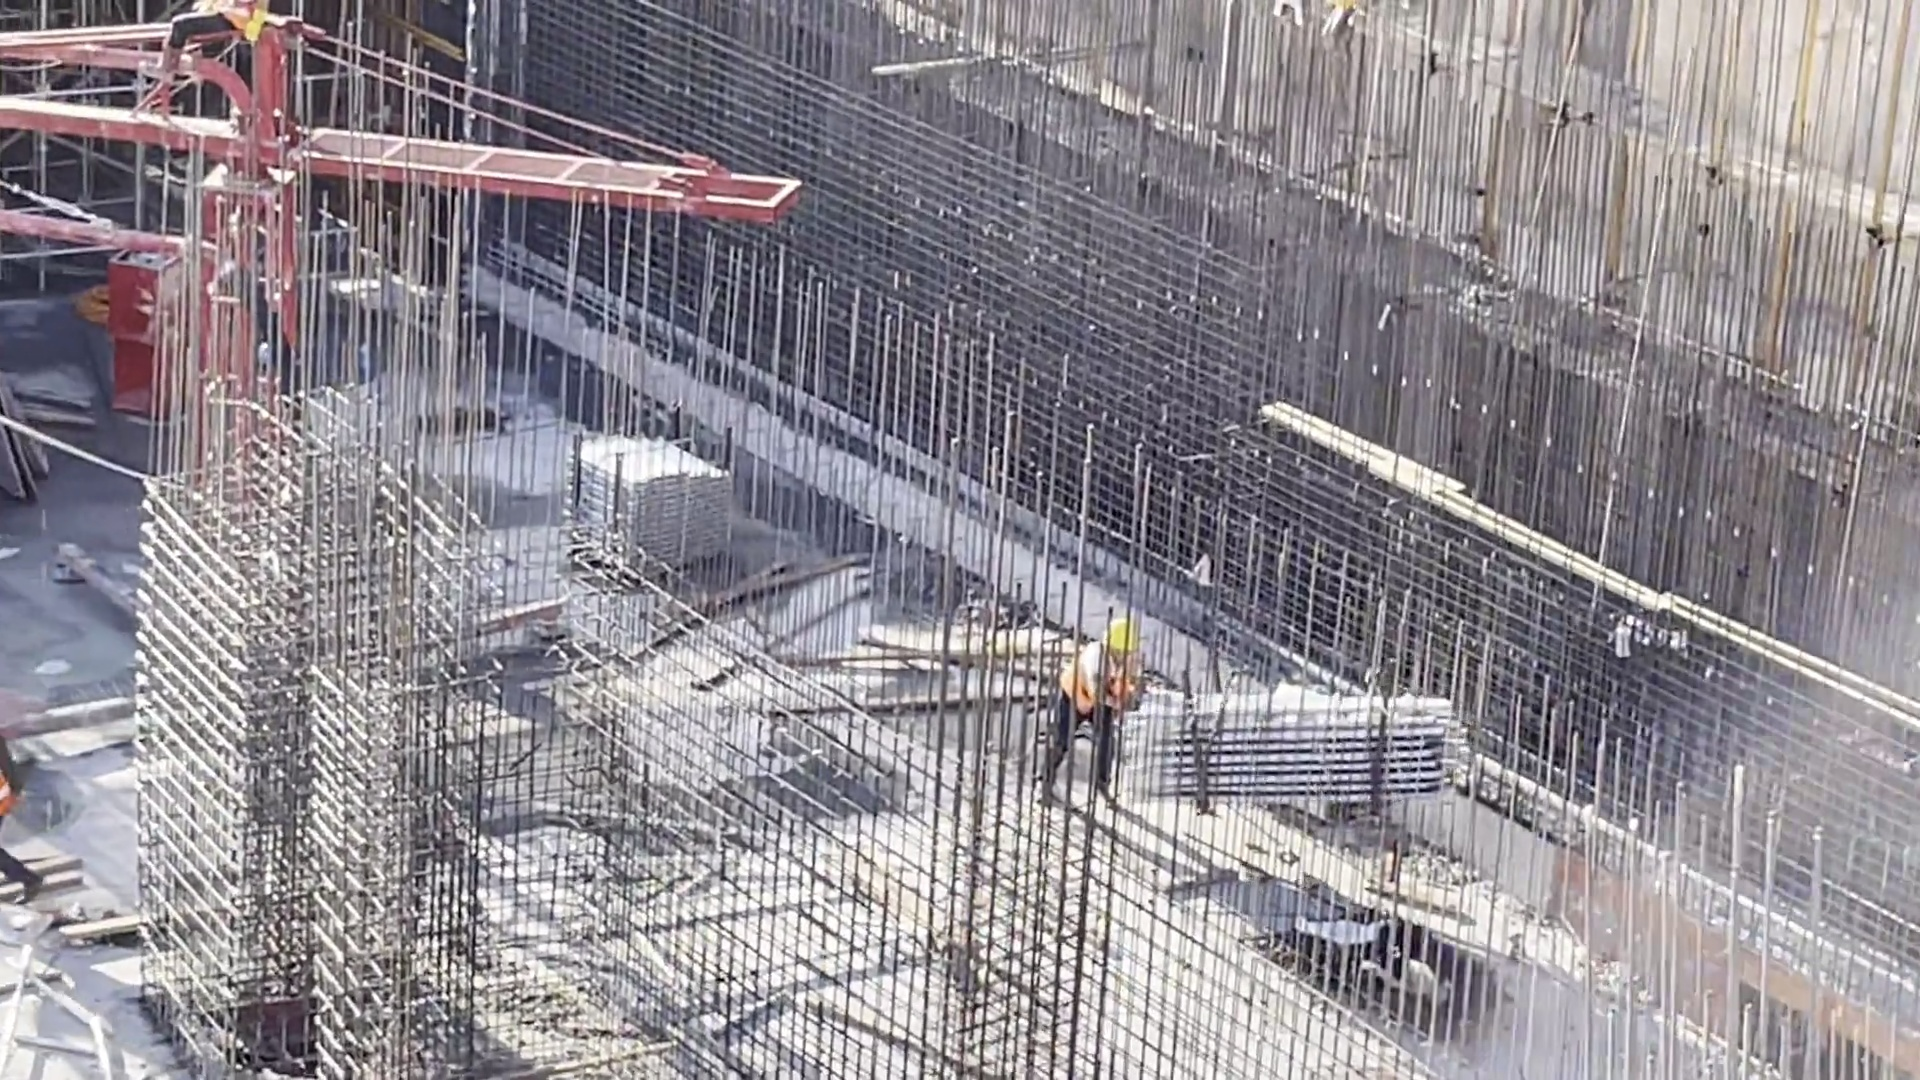helmet: (1101, 622, 1137, 658)
person: (1043, 609, 1148, 813), (1, 749, 56, 890)
scaffold: (1138, 678, 1492, 804), (567, 435, 749, 592)
vest: (1056, 644, 1138, 718)
